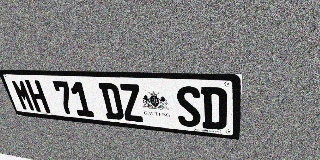1: (68, 82, 94, 117)
7: (51, 81, 78, 116)
D: (201, 87, 227, 130), (98, 83, 125, 120)
H: (24, 80, 51, 113)
M: (10, 79, 36, 112)
S: (175, 86, 201, 128)
Z: (118, 83, 144, 122)
